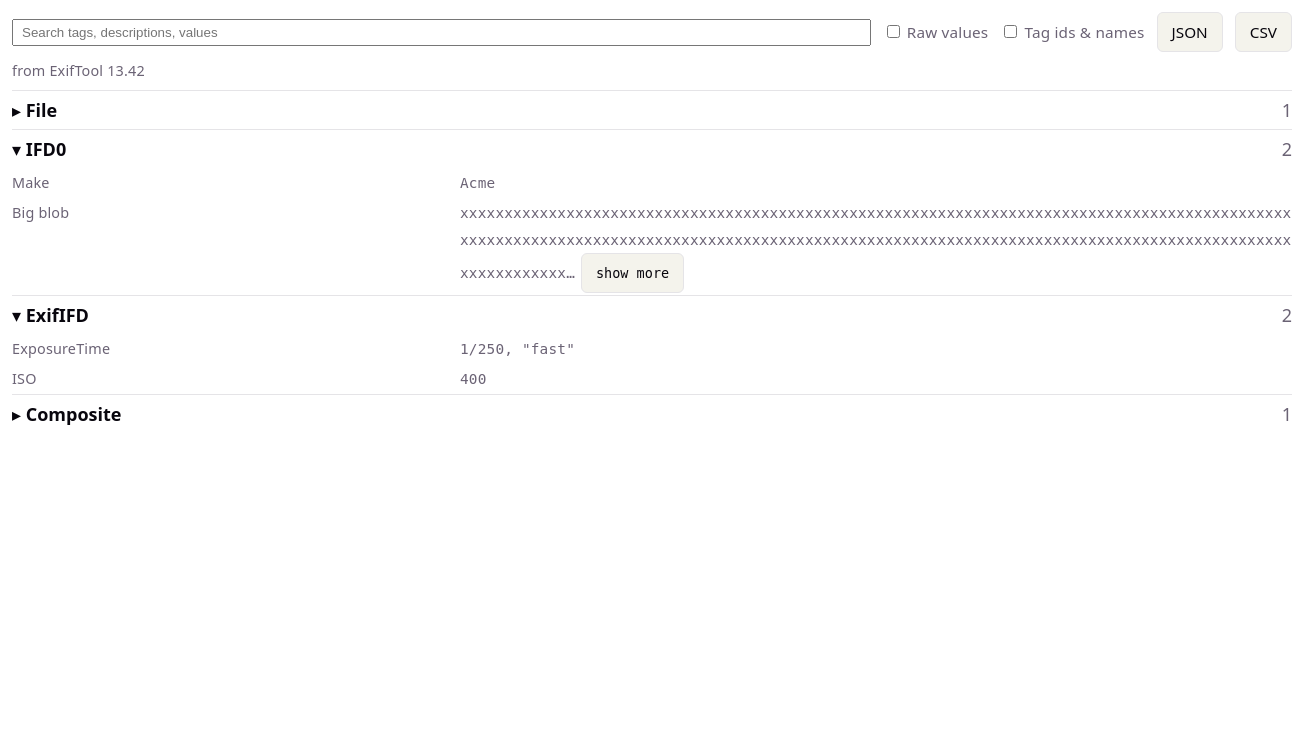
MetadataBrowser › toggles raw values and tag ids
Click the checkbox with test id "toggle-raw" at (893, 32), box [887,25,900,38]
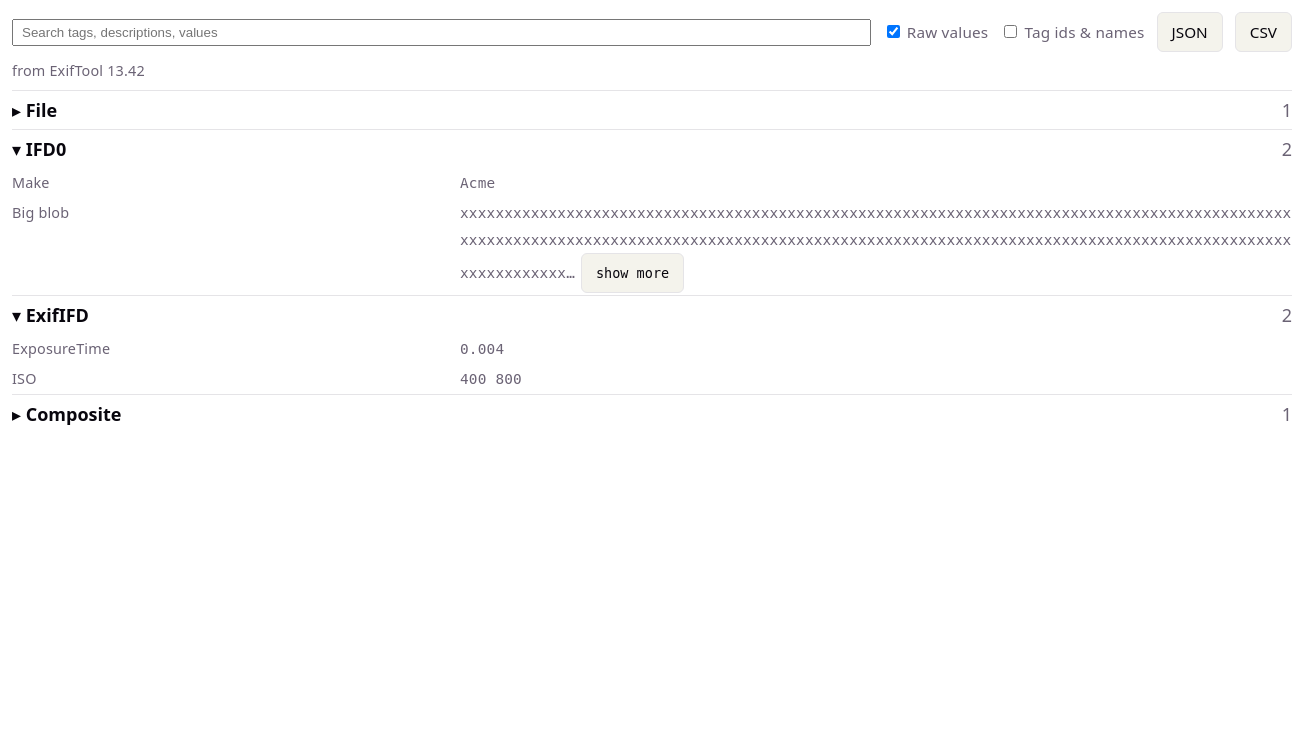
expect the text "0.004" is shown: met, box [460,341,504,357]
expect the text "400 800" is shown: met, box [460,371,522,387]
Click the checkbox with test id "toggle-ids" at (1011, 32), box [1004,25,1017,38]
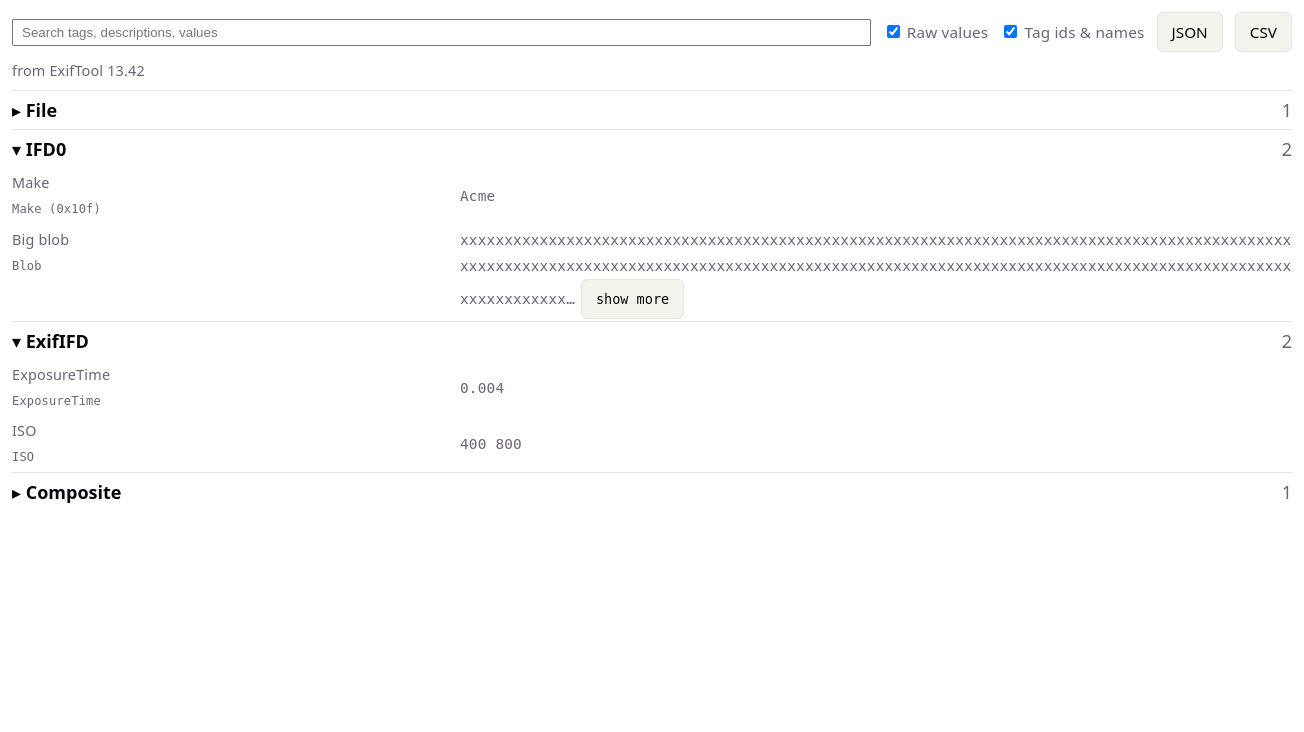
expect the text "Make (0x10f)" is shown: met, box [12,202,101,216]
